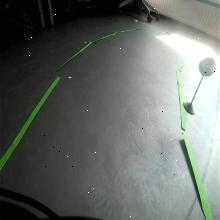left: (199, 56, 217, 77)
